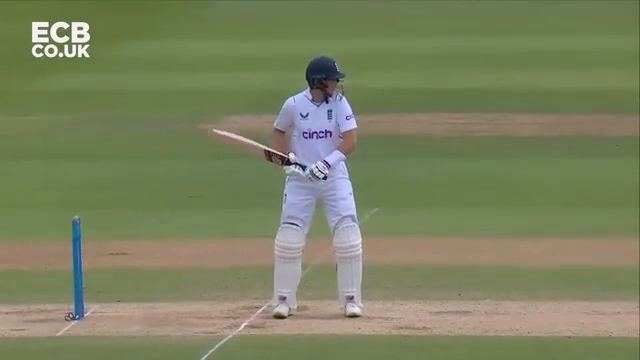batsman: (210, 55, 367, 318)
